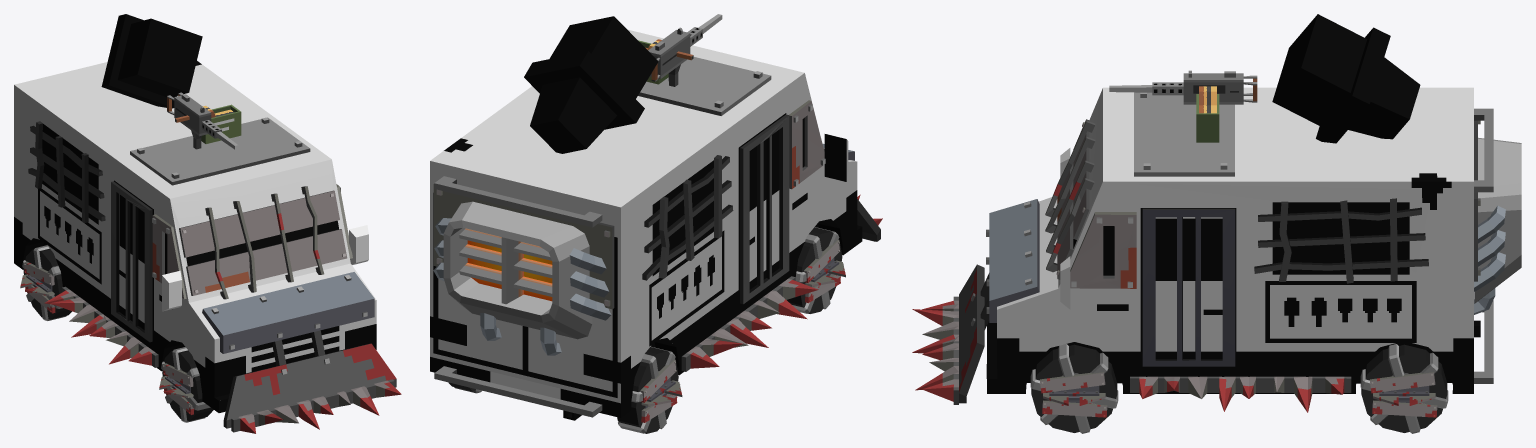
File: 03_SA_Veh_IceCream.glb
The picture shows the model from 3 angles, left to right: view 1: azimuth 30°, elevation 25°; view 2: azimuth 150°, elevation 25°; view 3: azimuth 270°, elevation 25°; orthographic projection. The views are drawn at different scales.
Parts seen in each view (by area): view 1: Body, armor_1, armor_2_part_A, armor_4_part_C, armor_4_part_D_R, armor_5, armor_3_part_B_R, armor_4_part_E_R, gun, armor_3_part_A_R, Wheel_C_2gr (×2), Wheel_C_3gr (×2) (+3 smaller); view 2: Body, Nitro, armor_4_part_D_R, armor_4_part_C, armor_3_part_B_R, armor_4_part_E_R, armor_2_part_B, armor_3_part_A_R, gun, armor_4_part_A, armor_4_part_B, Wheel_C_2gr (×2) (+5 smaller); view 3: Body, armor_1, armor_4_part_D_L, armor_4_part_C, Nitro, armor_3_part_B_L, armor_4_part_E_L, armor_2_part_A, armor_3_part_A_L, gun, Wheel_C_2gr (×2), armor_5 (+7 smaller).
Boxes of the visible parts, x1,y1,x2,y2 form: Body: [14, 14, 376, 412]; armor_1: [202, 272, 396, 428]; armor_2_part_A: [179, 186, 347, 299]; armor_4_part_C: [130, 117, 310, 185]; armor_4_part_D_R: [111, 181, 152, 342]; armor_5: [231, 379, 401, 433]; armor_3_part_B_R: [28, 121, 105, 222]; armor_4_part_E_R: [44, 286, 158, 367]; gun: [167, 92, 241, 149]; armor_3_part_A_R: [152, 214, 186, 299]; Wheel_C_2gr (×2): [24, 261, 194, 414]; Wheel_C_3gr (×2): [22, 245, 210, 422]; Body: [430, 16, 862, 420]; Nitro: [433, 201, 611, 355]; armor_4_part_D_R: [740, 114, 789, 304]; armor_4_part_C: [638, 57, 771, 115]; armor_3_part_B_R: [642, 155, 733, 280]; armor_4_part_E_R: [681, 276, 818, 371]; armor_2_part_B: [433, 184, 614, 309]; armor_3_part_A_R: [789, 100, 825, 189]; gun: [638, 14, 722, 86]; armor_4_part_A: [434, 176, 602, 227]; armor_4_part_B: [434, 366, 602, 417]; Wheel_C_2gr (×2): [640, 240, 840, 422]; Body: [986, 14, 1480, 393]; armor_1: [959, 199, 1039, 403]; armor_4_part_D_L: [1142, 208, 1235, 366]; armor_4_part_C: [1134, 92, 1234, 176]; Nitro: [1474, 137, 1521, 314]; armor_3_part_B_L: [1254, 198, 1428, 283]; armor_4_part_E_L: [1130, 376, 1351, 412]; armor_2_part_A: [1045, 119, 1095, 279]; armor_3_part_A_L: [1070, 212, 1136, 288]; gun: [1109, 70, 1257, 142]; Wheel_C_2gr (×2): [1040, 372, 1437, 417]; armor_5: [912, 296, 958, 404].
Size of what is drawn, in the model's own units: 4.08 by 5.22 by 7.88.
Materials: 1 (1 with a texture image).
